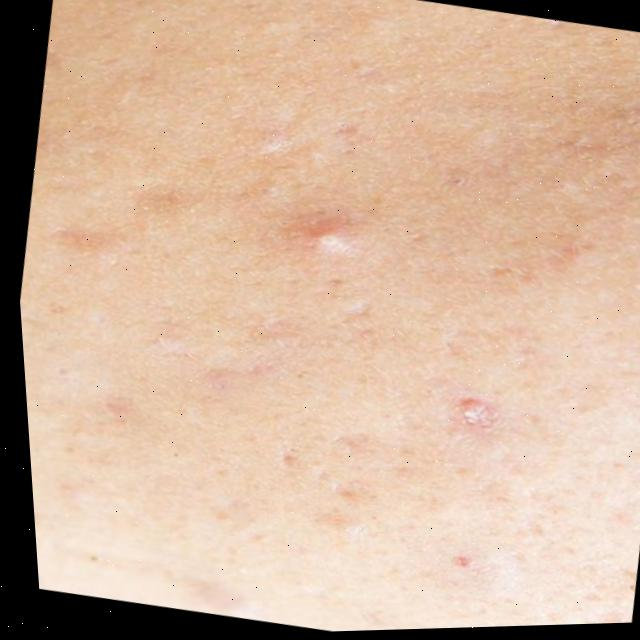Acne: (19, 123, 561, 617)
